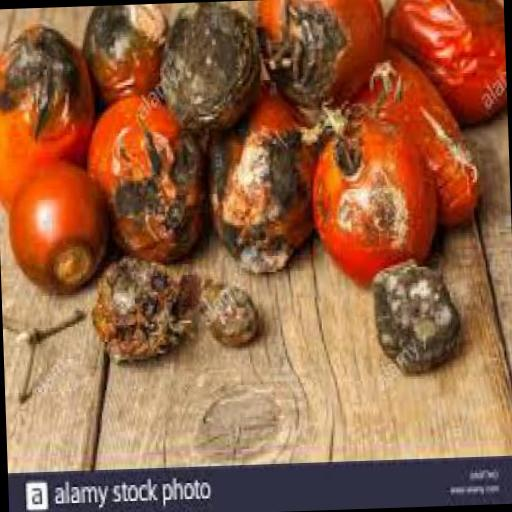biodegradable: (352, 34, 482, 228), (201, 74, 321, 272), (80, 90, 209, 260), (0, 22, 94, 212), (381, 0, 505, 123), (252, 0, 385, 113), (2, 146, 102, 291), (158, 0, 259, 131), (88, 250, 196, 361), (370, 254, 456, 370), (78, 3, 170, 100), (2, 306, 90, 399), (194, 272, 255, 340)
